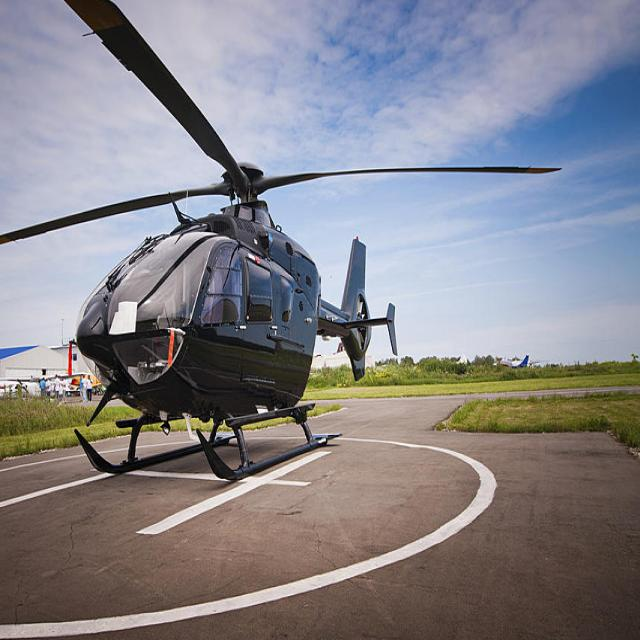helicopter: (1, 1, 561, 487)
